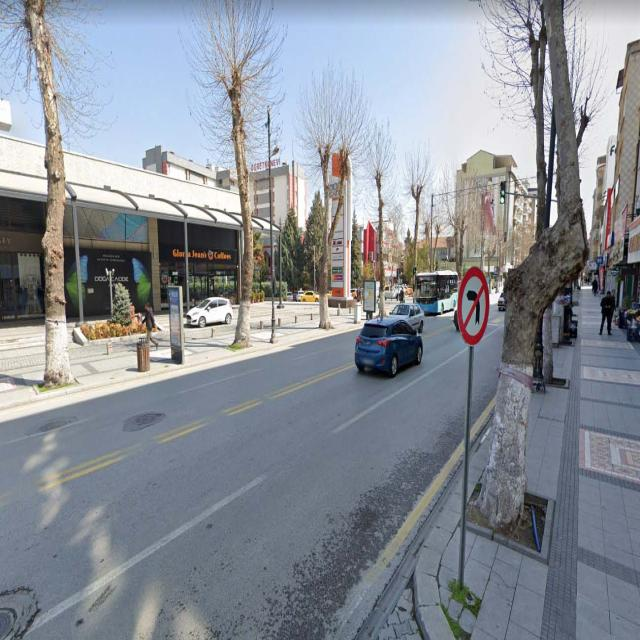soladonulmez: (459, 268, 486, 347)
yesil: (500, 179, 506, 204)
